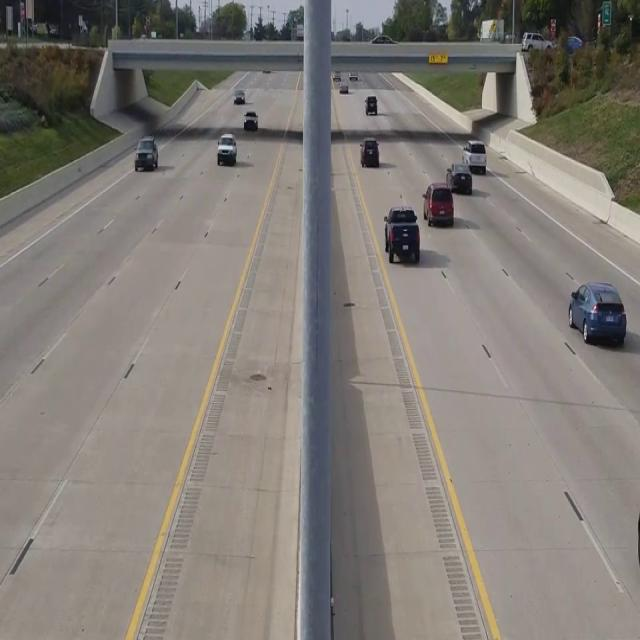car: (567, 281, 627, 345), (384, 206, 419, 263), (422, 182, 453, 226), (445, 162, 472, 194), (135, 135, 158, 171), (216, 132, 236, 164), (360, 137, 379, 166), (244, 110, 258, 132), (365, 95, 377, 114)
